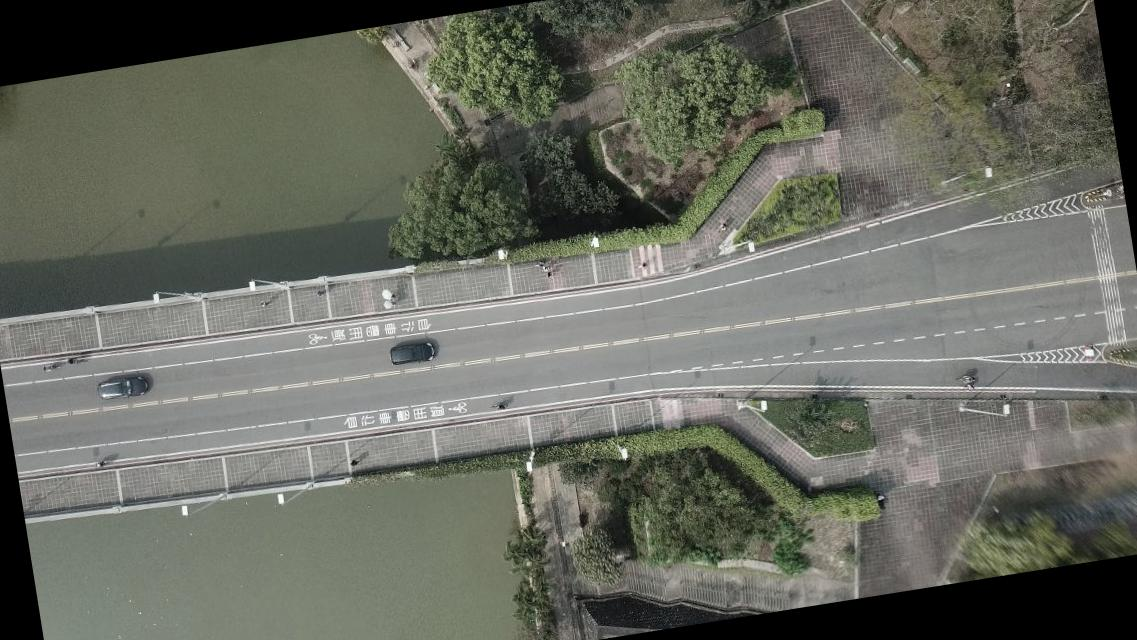vehicle: (96, 372, 150, 402), (388, 338, 436, 368)
